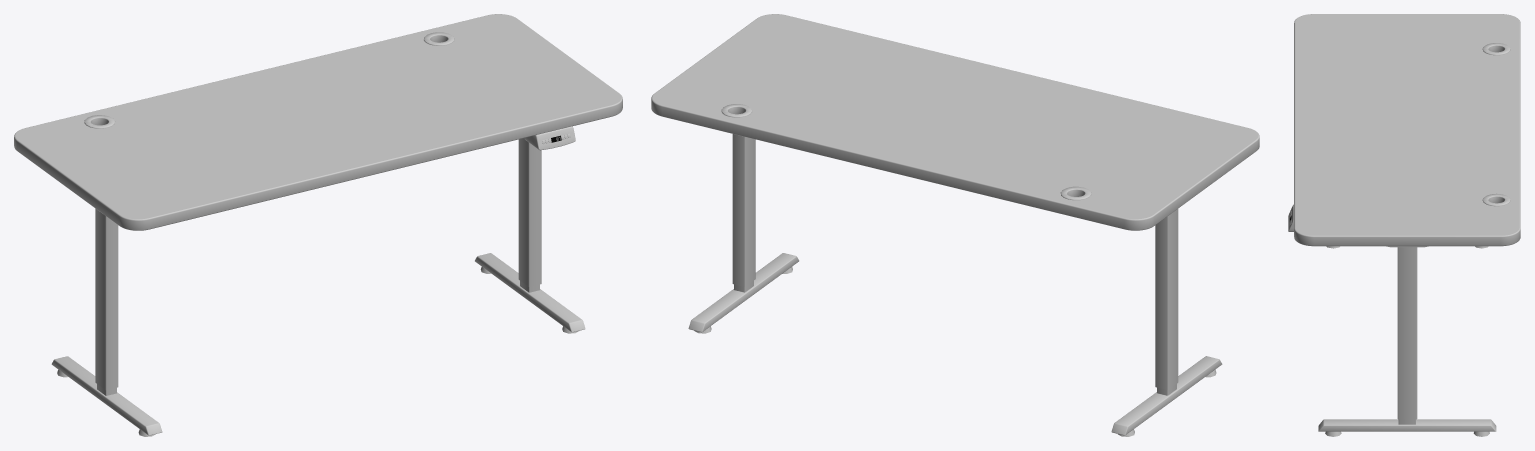
Rendered from standing_desk.obj.
3 views of the same model, side by side, from view 1: azimuth 30°, elevation 25°; view 2: azimuth 150°, elevation 25°; view 3: azimuth 270°, elevation 25° (orthographic). The views are drawn at different scales.
Parts seen in each view (by area): view 1: Desk_low_Cube.019, upper_frame_low_Cube.018, feet_low_Cube.020; view 2: Desk_low_Cube.019, upper_frame_low_Cube.018, feet_low_Cube.020; view 3: Desk_low_Cube.019, upper_frame_low_Cube.018, feet_low_Cube.020.
Part boxes in pixels (bbox=[...]): Desk_low_Cube.019: bbox=[14, 14, 622, 230]; upper_frame_low_Cube.018: bbox=[95, 126, 575, 390]; feet_low_Cube.020: bbox=[51, 253, 585, 436]; Desk_low_Cube.019: bbox=[651, 14, 1259, 230]; upper_frame_low_Cube.018: bbox=[732, 134, 1178, 389]; feet_low_Cube.020: bbox=[688, 253, 1222, 436]; Desk_low_Cube.019: bbox=[1294, 14, 1520, 246]; upper_frame_low_Cube.018: bbox=[1288, 204, 1428, 419]; feet_low_Cube.020: bbox=[1318, 246, 1496, 436].
Bounding box in the file's own units: 2.36 × 1.06 × 1.04.
